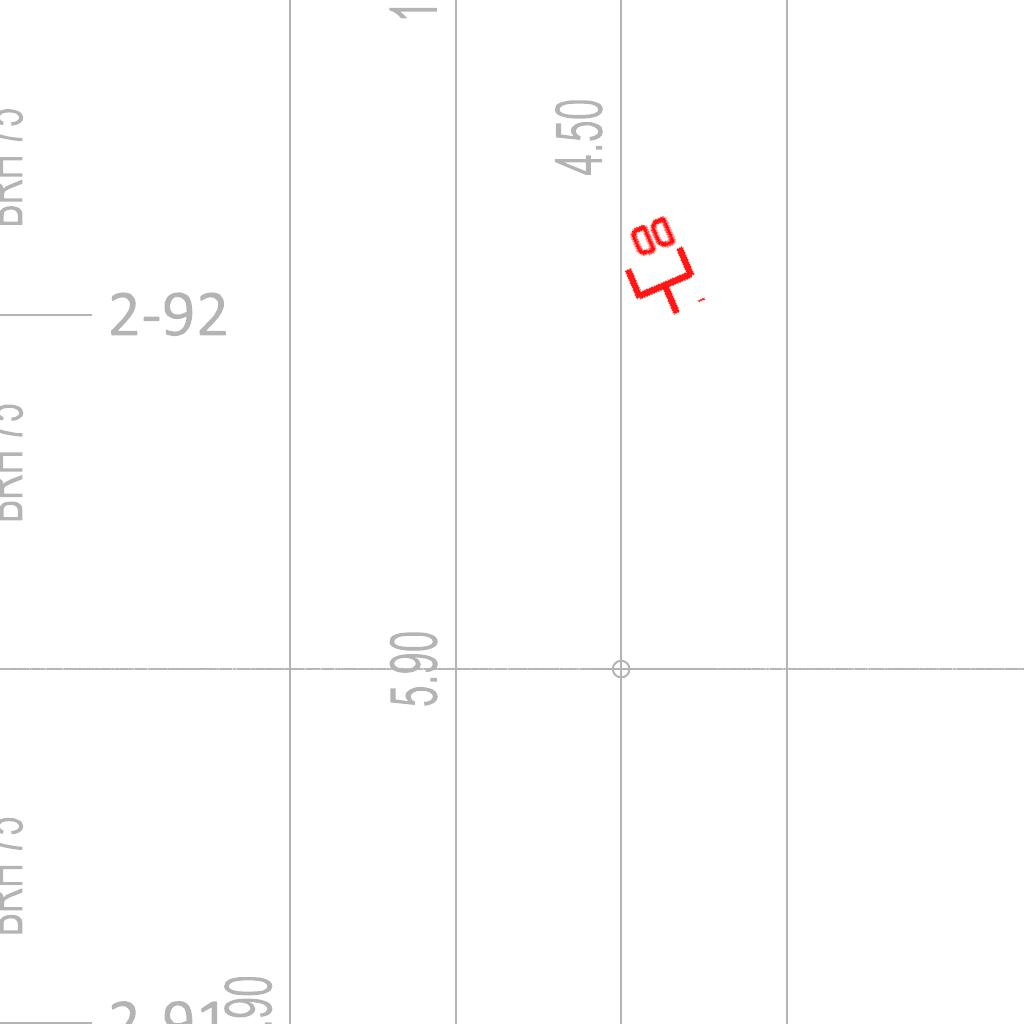Datenanschluss_zweifach: (604, 208, 709, 331)
